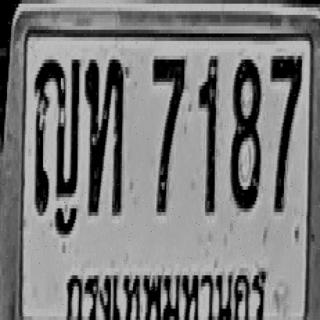A13: (33, 56, 80, 216)
A23: (85, 56, 124, 216)
N01: (198, 54, 218, 214)
N07: (152, 54, 185, 214), (270, 52, 302, 212)
N08: (230, 54, 260, 210)
P04: (62, 250, 269, 320)
